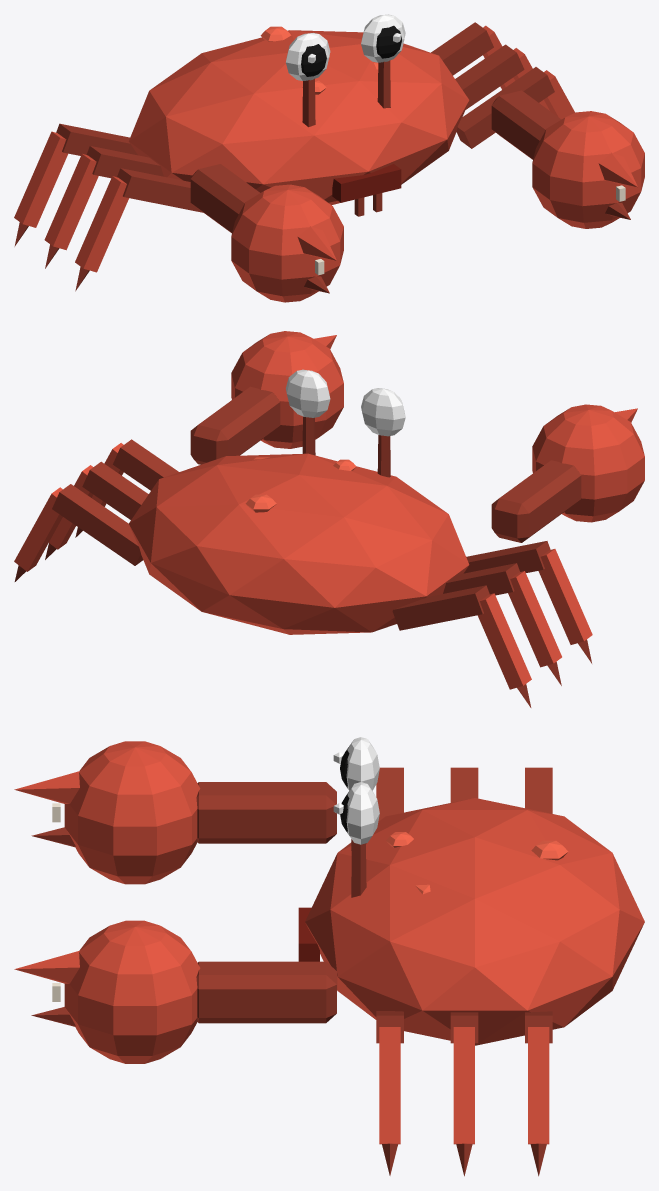
File: krabbe.glb
3 views of the same model, one above another, from view 1: azimuth 30°, elevation 25°; view 2: azimuth 150°, elevation 25°; view 3: azimuth 270°, elevation 25° (orthographic). The views are drawn at different scales.
Parts seen in each view (by area): view 1: body, pin-0-m, pin-1-m, claw-1-m, claw-0-m, leg-2-lo-m, leg-1-lo-m, leg-0-lo-m, leg-5-m, leg-4-m, leg-2-m, eye-1-m (+7 smaller); view 2: body, pin-0-m, pin-1-m, claw-0-m, claw-1-m, leg-3-m, leg-0-m, leg-0-lo-m, leg-1-lo-m, leg-2-lo-m, leg-4-m, eye-0-m (+7 smaller); view 3: body, pin-0-m, pin-1-m, claw-1-m, claw-0-m, leg-4-lo-m, leg-5-lo-m, leg-3-lo-m, eye-1-m, eye-0-m, leg-2-m, leg-0-m (+2 smaller).
Part boxes in pixels (bbox=[...]): body: bbox=[128, 26, 469, 216]; pin-0-m: bbox=[231, 184, 343, 302]; pin-1-m: bbox=[532, 111, 644, 228]; claw-1-m: bbox=[491, 90, 561, 159]; claw-0-m: bbox=[190, 164, 259, 233]; leg-2-lo-m: bbox=[75, 176, 128, 291]; leg-1-lo-m: bbox=[44, 154, 98, 268]; leg-0-lo-m: bbox=[14, 131, 67, 246]; leg-5-m: bbox=[456, 67, 554, 148]; leg-4-m: bbox=[455, 44, 524, 109]; leg-2-m: bbox=[117, 168, 203, 212]; eye-1-m: bbox=[361, 14, 405, 62]; body: bbox=[129, 453, 469, 634]; pin-0-m: bbox=[532, 404, 644, 522]; pin-1-m: bbox=[231, 331, 343, 448]; claw-0-m: bbox=[491, 460, 581, 542]; claw-1-m: bbox=[190, 386, 280, 464]; leg-3-m: bbox=[52, 484, 143, 565]; leg-0-m: bbox=[392, 585, 489, 630]; leg-0-lo-m: bbox=[477, 593, 531, 707]; leg-1-lo-m: bbox=[508, 571, 561, 685]; leg-2-lo-m: bbox=[538, 549, 592, 663]; leg-4-m: bbox=[82, 461, 148, 519]; eye-0-m: bbox=[361, 388, 405, 436]; body: bbox=[298, 798, 644, 1045]; pin-0-m: bbox=[14, 741, 200, 884]; pin-1-m: bbox=[14, 920, 200, 1063]; claw-1-m: bbox=[196, 961, 336, 1023]; claw-0-m: bbox=[196, 782, 336, 843]; leg-4-lo-m: bbox=[453, 1027, 474, 1176]; leg-5-lo-m: bbox=[379, 1027, 400, 1175]; leg-3-lo-m: bbox=[528, 1027, 549, 1176]; eye-1-m: bbox=[333, 782, 379, 844]; eye-0-m: bbox=[333, 737, 379, 790]; leg-2-m: bbox=[376, 767, 403, 821]; leg-0-m: bbox=[525, 767, 552, 813].
Bounding box in the file's own units: 3.44 × 1.35 × 2.97.
